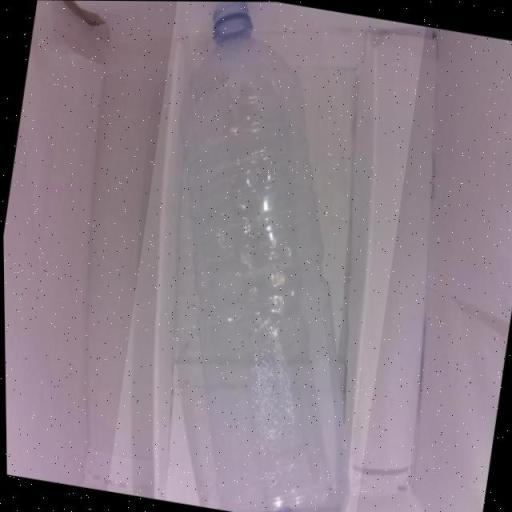plastic: (101, 1, 433, 512)
